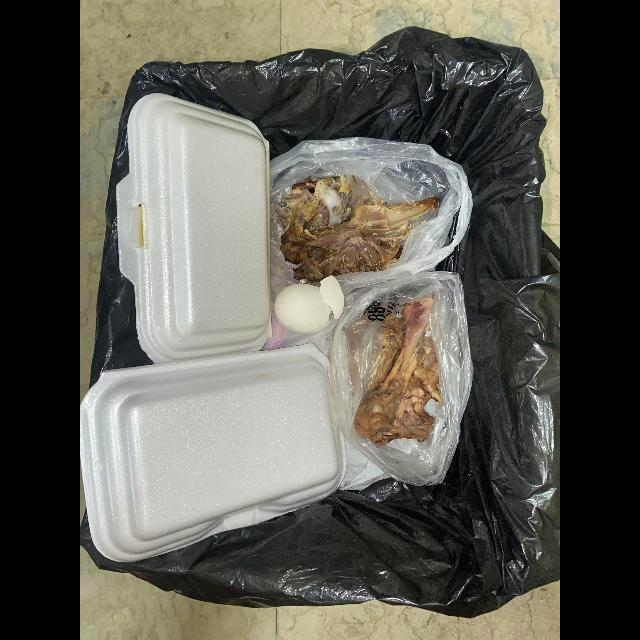left_over_food: (276, 174, 440, 284), (354, 297, 443, 445)
plastic_bag: (326, 271, 474, 487), (270, 137, 473, 287)
